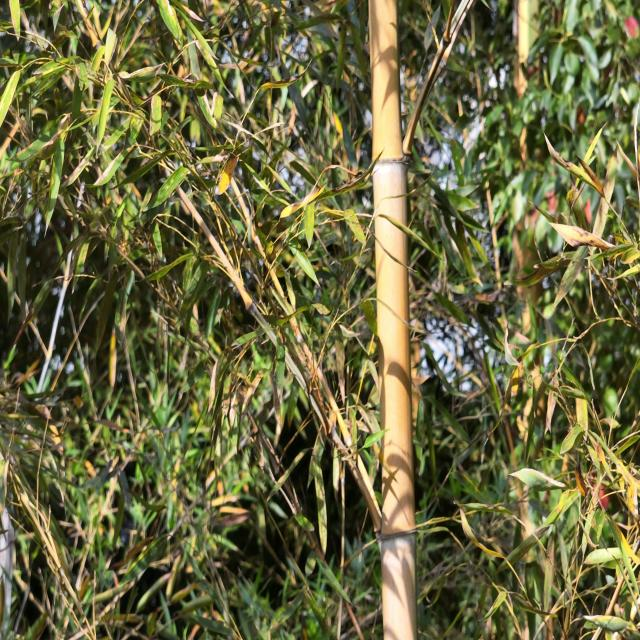Bamboo-shoots: (368, 0, 418, 640)
